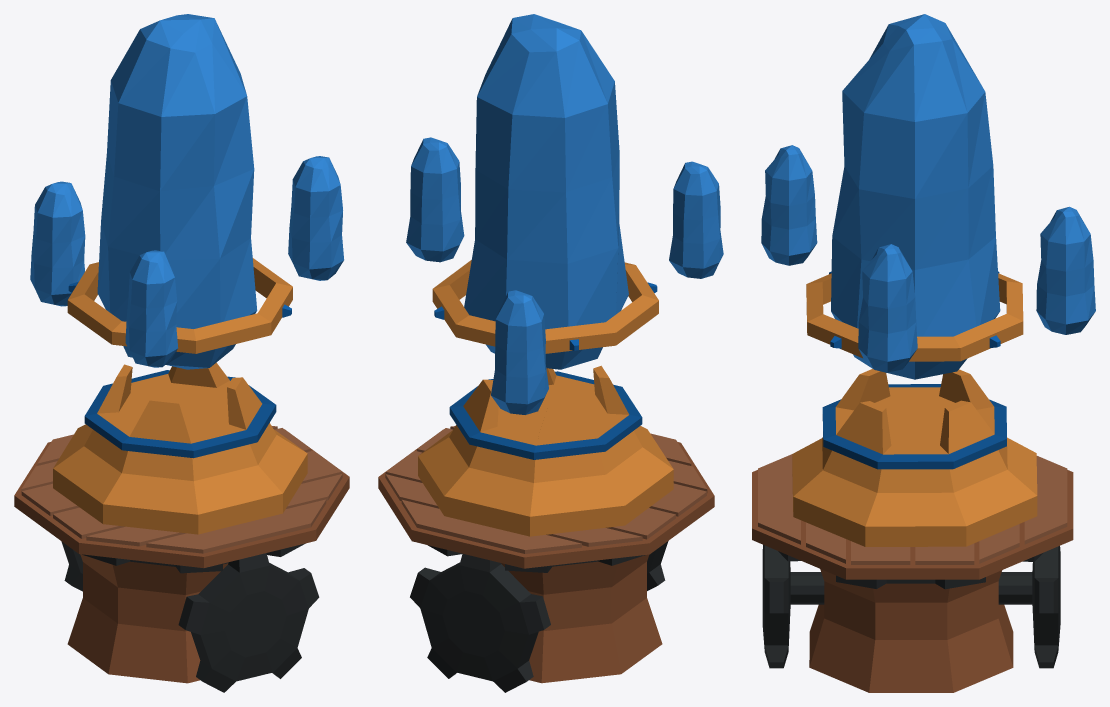
The model's file is Support Level 3.FBX.
3 views of the same model, side by side, from view 1: azimuth 30°, elevation 25°; view 2: azimuth 150°, elevation 25°; view 3: azimuth 270°, elevation 25° (orthographic). The views are drawn at different scales.
Parts seen in each view (by area): view 1: MagicCrystal.004; view 2: MagicCrystal.004; view 3: MagicCrystal.004.
Boxes of the visible parts, <box> form: MagicCrystal.004: <box>14,14,349,692</box>; MagicCrystal.004: <box>378,14,723,692</box>; MagicCrystal.004: <box>752,14,1095,692</box>.
Size of the model in its own units: 205 by 422 by 208.
Materials: 1 (1 with a texture image).
